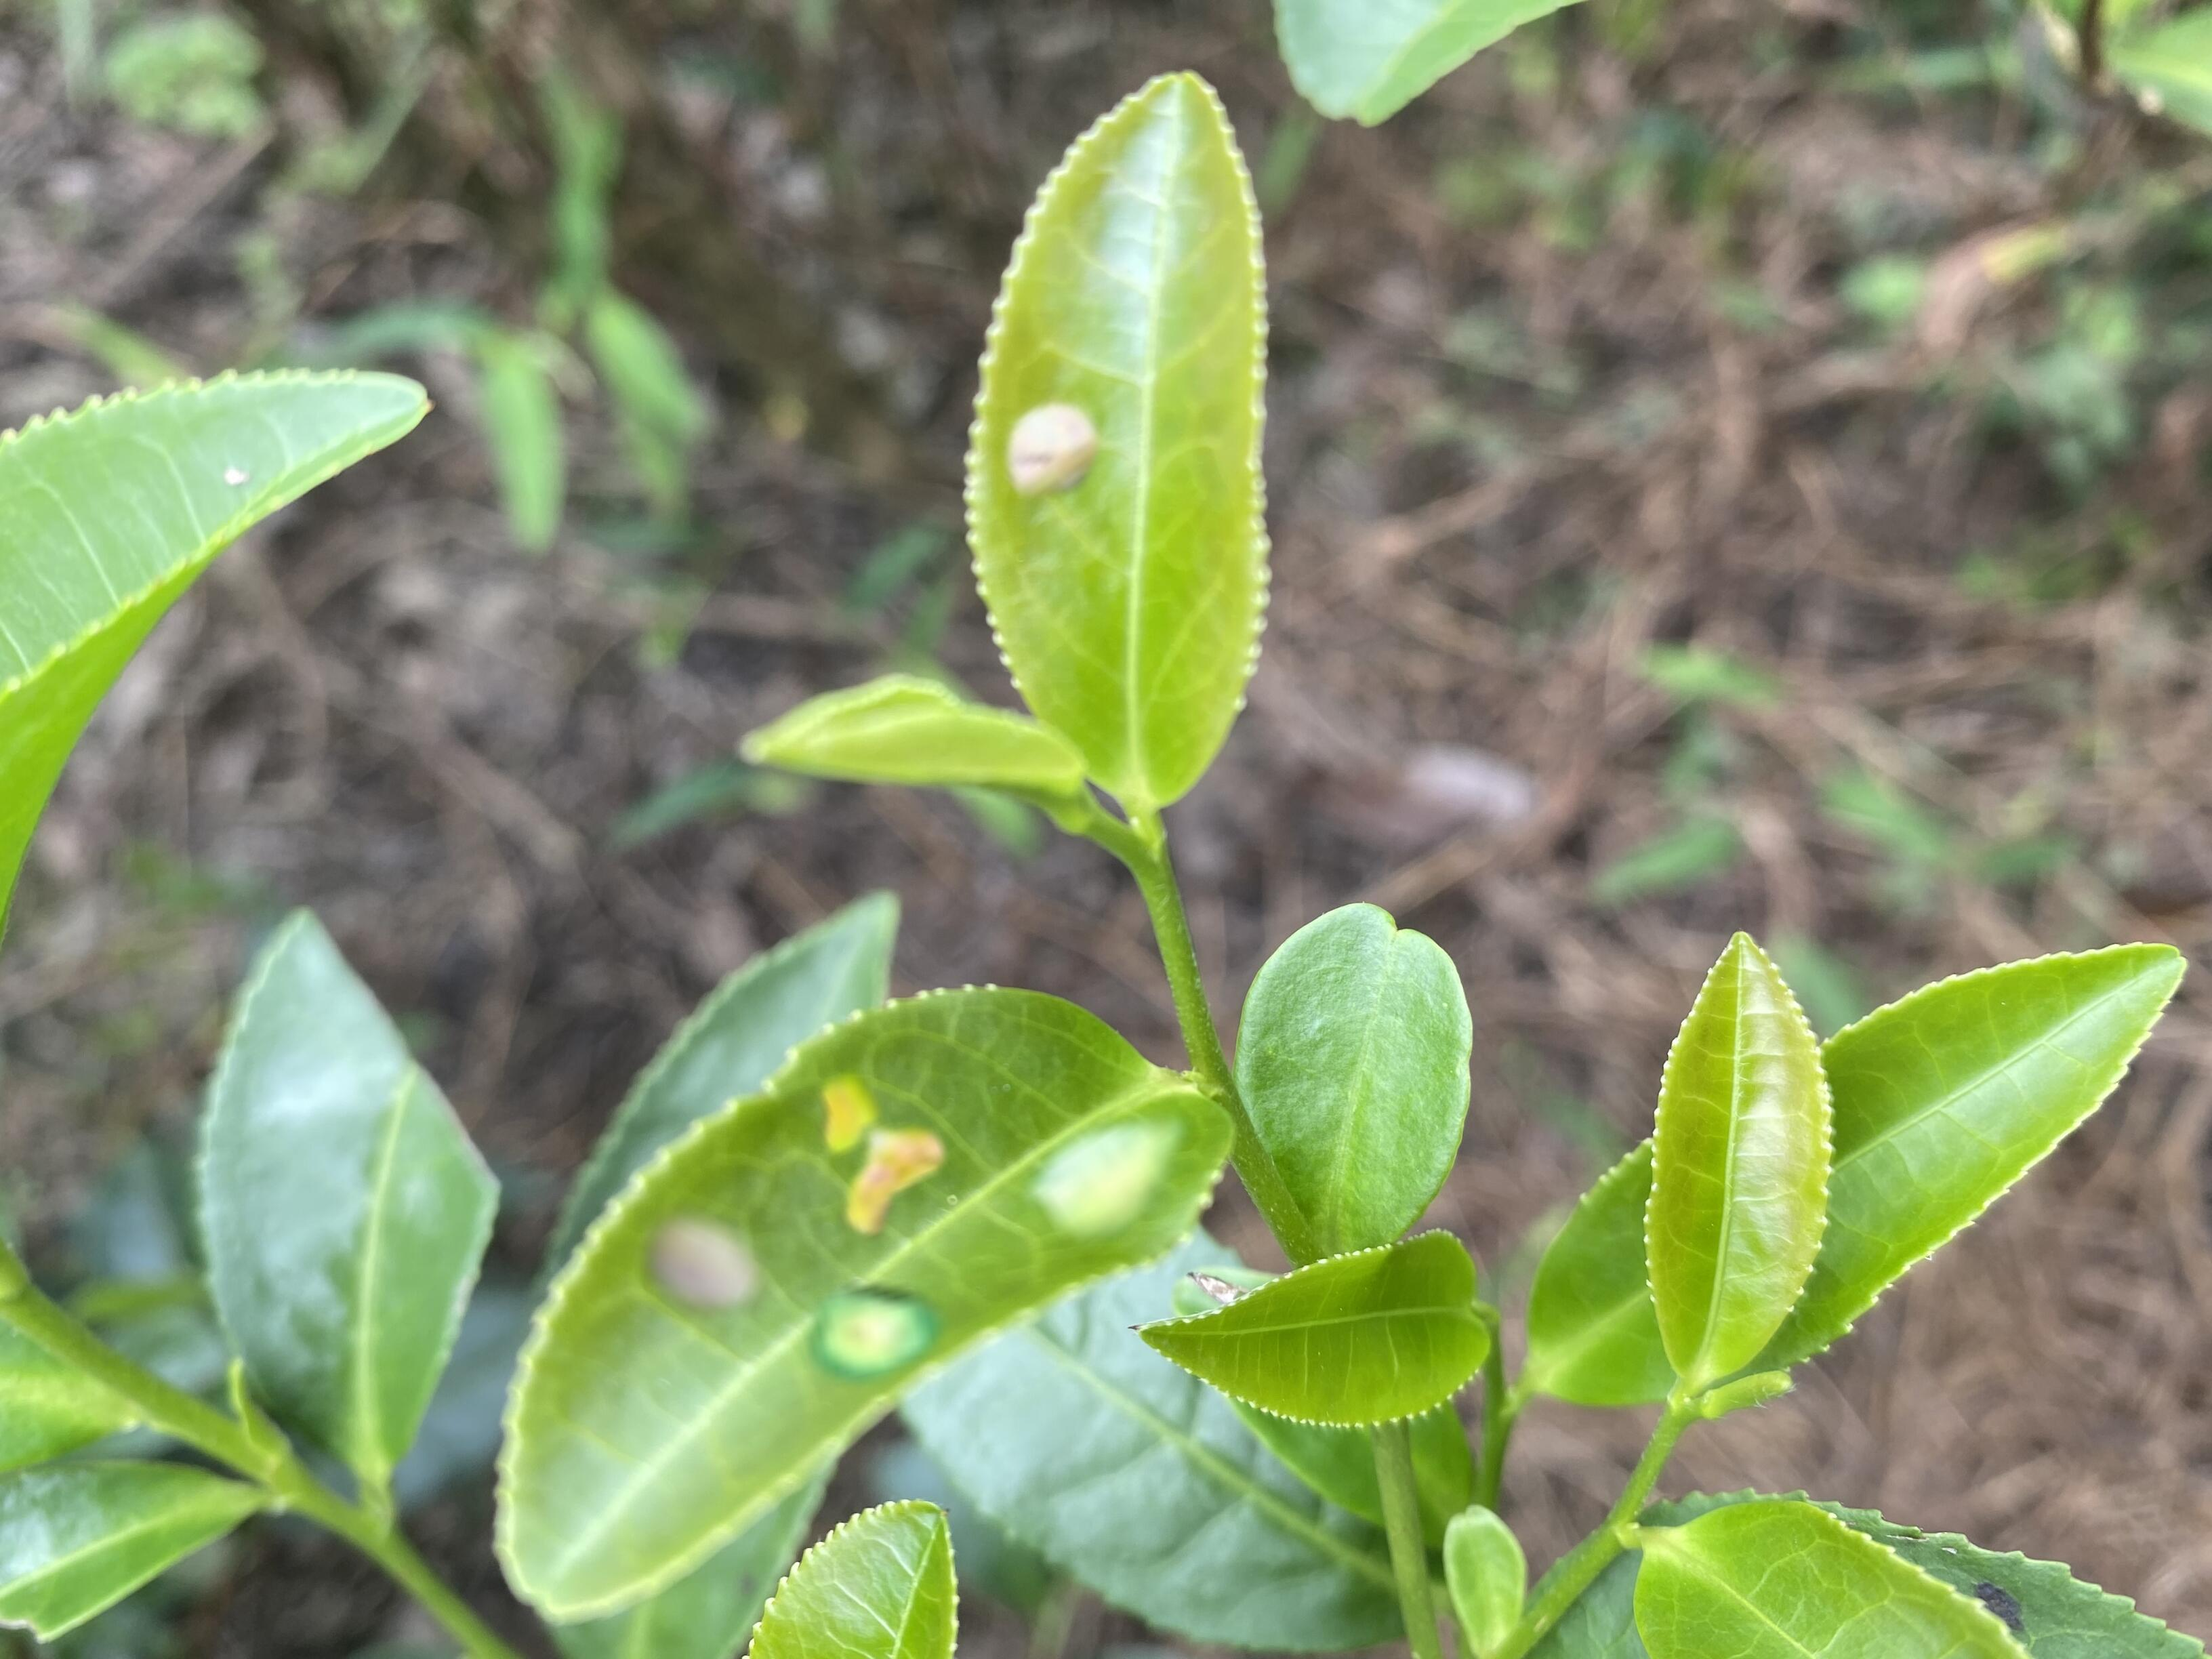chabing_high: (482, 979, 1237, 1619)
chabing_low: (960, 68, 1273, 812)
healthy: (1639, 927, 1834, 1384), (1237, 903, 1477, 1256), (1130, 1229, 1494, 1431)
